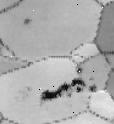good_void: (42, 84, 68, 100), (72, 80, 83, 86), (24, 18, 31, 24), (90, 84, 95, 92), (77, 68, 82, 73), (77, 87, 80, 92), (68, 93, 70, 97)
